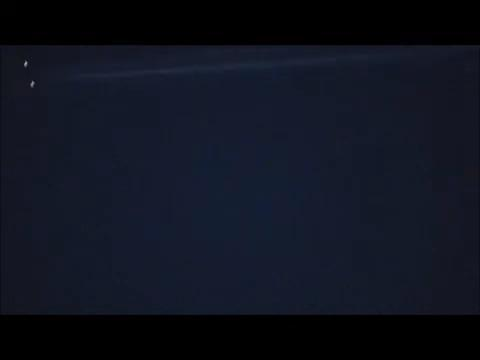Plane: (0, 45, 352, 102)
